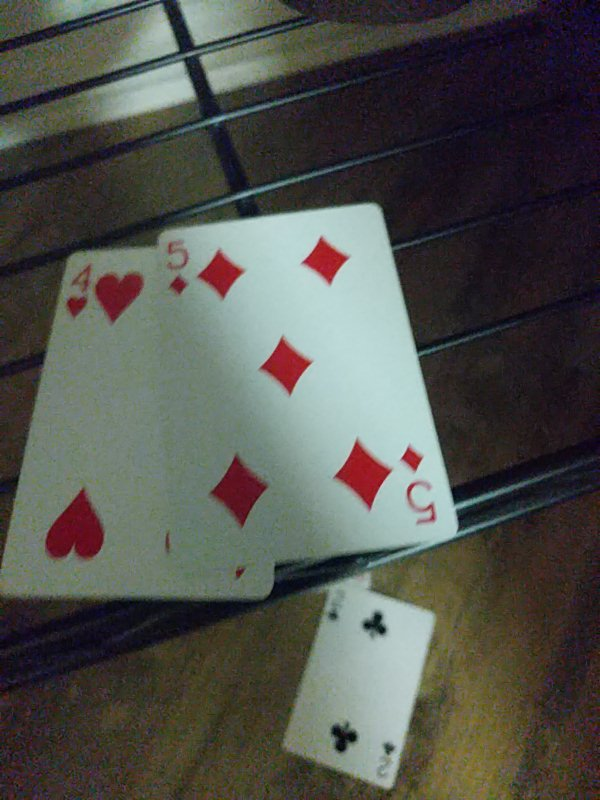Clubs: (278, 579, 435, 788)
Diamonds: (156, 204, 459, 554)
Hearts: (2, 245, 278, 600)
